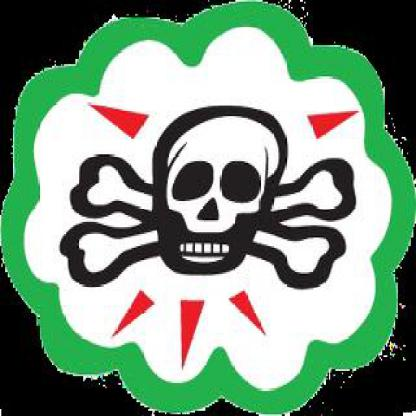skull: (57, 101, 360, 302)
